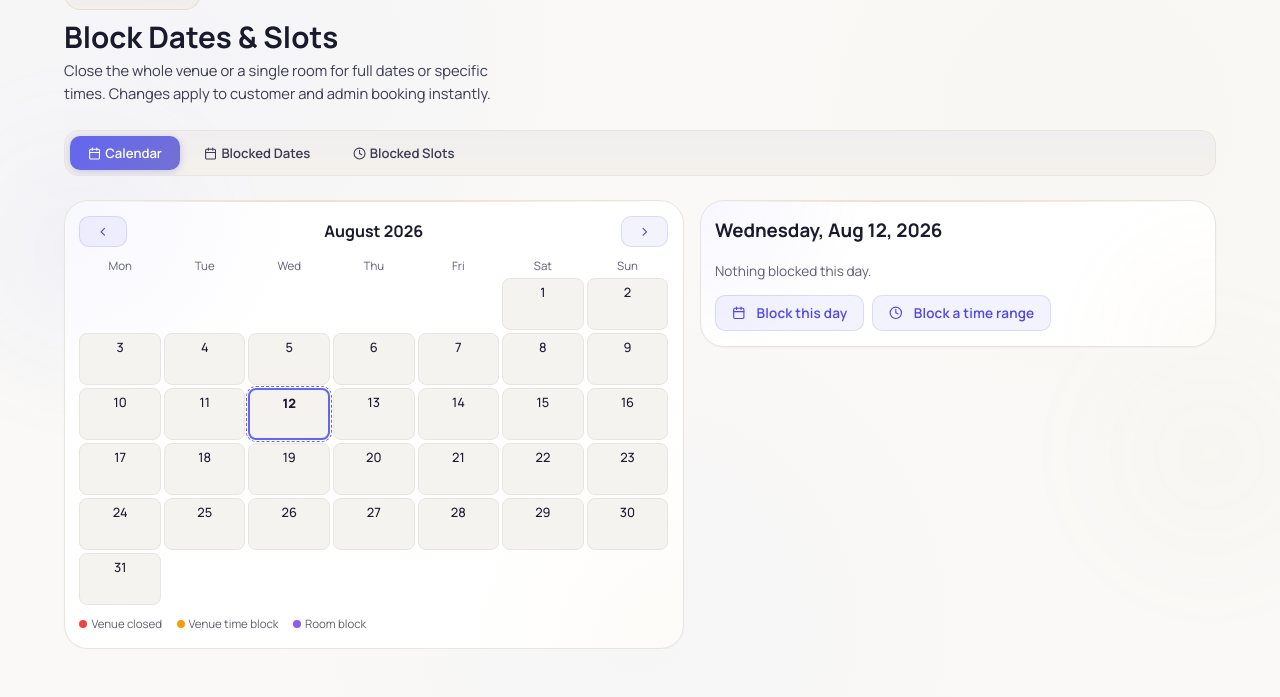
Test case: AdminBlockedDates Page › displays blocked dates when available
Click the button "Blocked Dates".
click(257, 153)  # box [186,136,329,170]
(page scrolled)
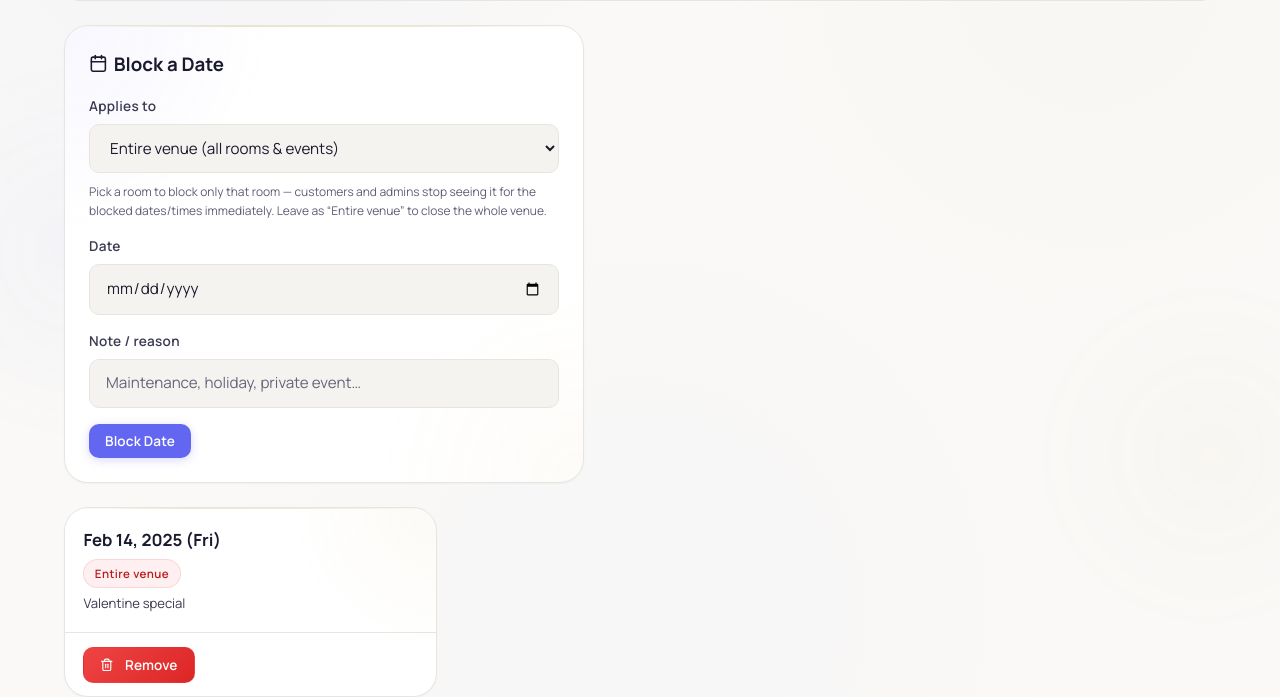
Check: the text "Valentine special" is shown, box [83,594,185,612]
